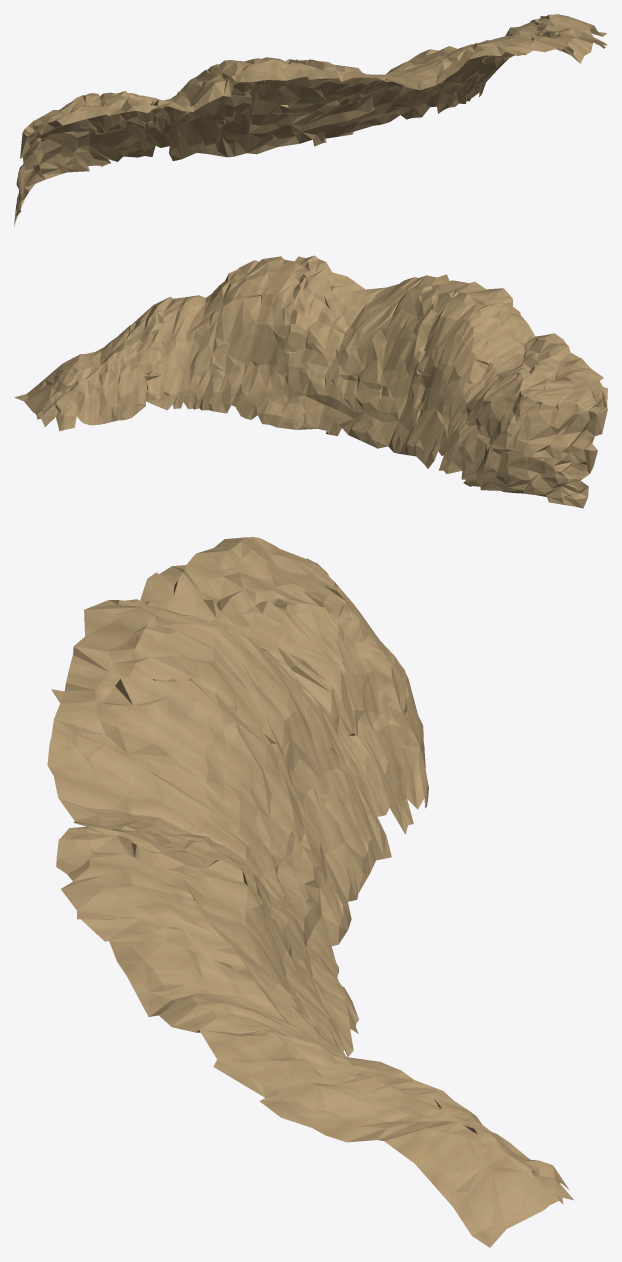
The model's file is SM_ENV_TCHEXA_FaceRock_BG_02.fbx.
3 renders of one model, top to bottom at view 1: azimuth 30°, elevation 25°; view 2: azimuth 150°, elevation 25°; view 3: azimuth 270°, elevation 25°, orthographic. The views are drawn at different scales.
Parts seen in each view (by area): view 1: SM_ENV_TCHEXA_FaceRock_BG_02.mo; view 2: SM_ENV_TCHEXA_FaceRock_BG_02.mo; view 3: SM_ENV_TCHEXA_FaceRock_BG_02.mo.
Boxes of the visible parts, x1,y1,x2,y2 form: SM_ENV_TCHEXA_FaceRock_BG_02.mo: (14, 14, 607, 225); SM_ENV_TCHEXA_FaceRock_BG_02.mo: (14, 255, 607, 508); SM_ENV_TCHEXA_FaceRock_BG_02.mo: (47, 537, 573, 1247).
Size of the model in its own units: 51756 by 12529 by 21832.
